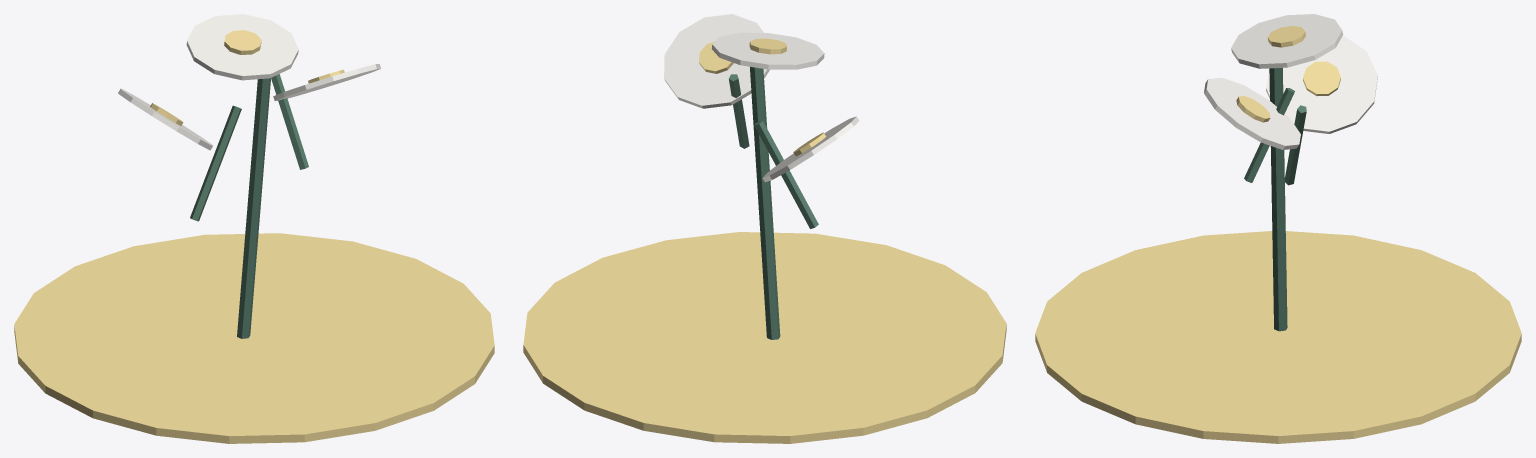
File: daisy-sprig.glb
The picture shows the model from 3 angles, left to right: view 1: azimuth 30°, elevation 25°; view 2: azimuth 150°, elevation 25°; view 3: azimuth 270°, elevation 25°; orthographic projection.
Parts seen in each view (by area): view 1: daisy_Glow, daisy_FlowerTop_Petals, daisy_MainStem, daisy_Branch1, daisy_FlowerRight_Petals, daisy_Branch2, daisy_FlowerLeft_Petals, daisy_FlowerTop_Center; view 2: daisy_Glow, daisy_FlowerRight_Petals, daisy_MainStem, daisy_FlowerTop_Petals, daisy_Branch1, daisy_FlowerLeft_Petals, daisy_Branch2, daisy_FlowerRight_Center, daisy_FlowerTop_Center; view 3: daisy_Glow, daisy_FlowerLeft_Petals, daisy_FlowerTop_Petals, daisy_FlowerRight_Petals, daisy_MainStem, daisy_FlowerLeft_Center, daisy_Branch2, daisy_Branch1, daisy_FlowerTop_Center, daisy_FlowerRight_Center.
Part boxes in pixels (x1,y1,x2,y2): daisy_Glow: [14, 233, 494, 443]; daisy_FlowerTop_Petals: [186, 14, 298, 80]; daisy_MainStem: [237, 78, 270, 338]; daisy_Branch1: [190, 105, 241, 221]; daisy_FlowerRight_Petals: [273, 64, 380, 100]; daisy_Branch2: [271, 74, 308, 169]; daisy_FlowerLeft_Petals: [118, 88, 212, 150]; daisy_FlowerTop_Center: [224, 30, 261, 54]; daisy_Glow: [523, 232, 1006, 443]; daisy_FlowerRight_Petals: [664, 14, 769, 108]; daisy_MainStem: [750, 67, 780, 339]; daisy_FlowerTop_Petals: [712, 32, 824, 69]; daisy_Branch1: [754, 120, 818, 228]; daisy_FlowerLeft_Petals: [762, 116, 859, 182]; daisy_Branch2: [729, 74, 749, 148]; daisy_FlowerRight_Center: [699, 41, 733, 73]; daisy_FlowerTop_Center: [749, 38, 786, 54]; daisy_Glow: [1035, 231, 1521, 443]; daisy_FlowerLeft_Petals: [1266, 35, 1377, 133]; daisy_FlowerTop_Petals: [1231, 14, 1343, 68]; daisy_FlowerRight_Petals: [1204, 77, 1300, 149]; daisy_MainStem: [1269, 68, 1287, 331]; daisy_FlowerLeft_Center: [1303, 61, 1340, 95]; daisy_Branch2: [1244, 88, 1294, 182]; daisy_Branch1: [1285, 105, 1306, 185]; daisy_FlowerTop_Center: [1267, 26, 1305, 47]; daisy_FlowerRight_Center: [1236, 95, 1270, 122].
Size of the model in its own units: 0.56 by 0.3903 by 0.56.
